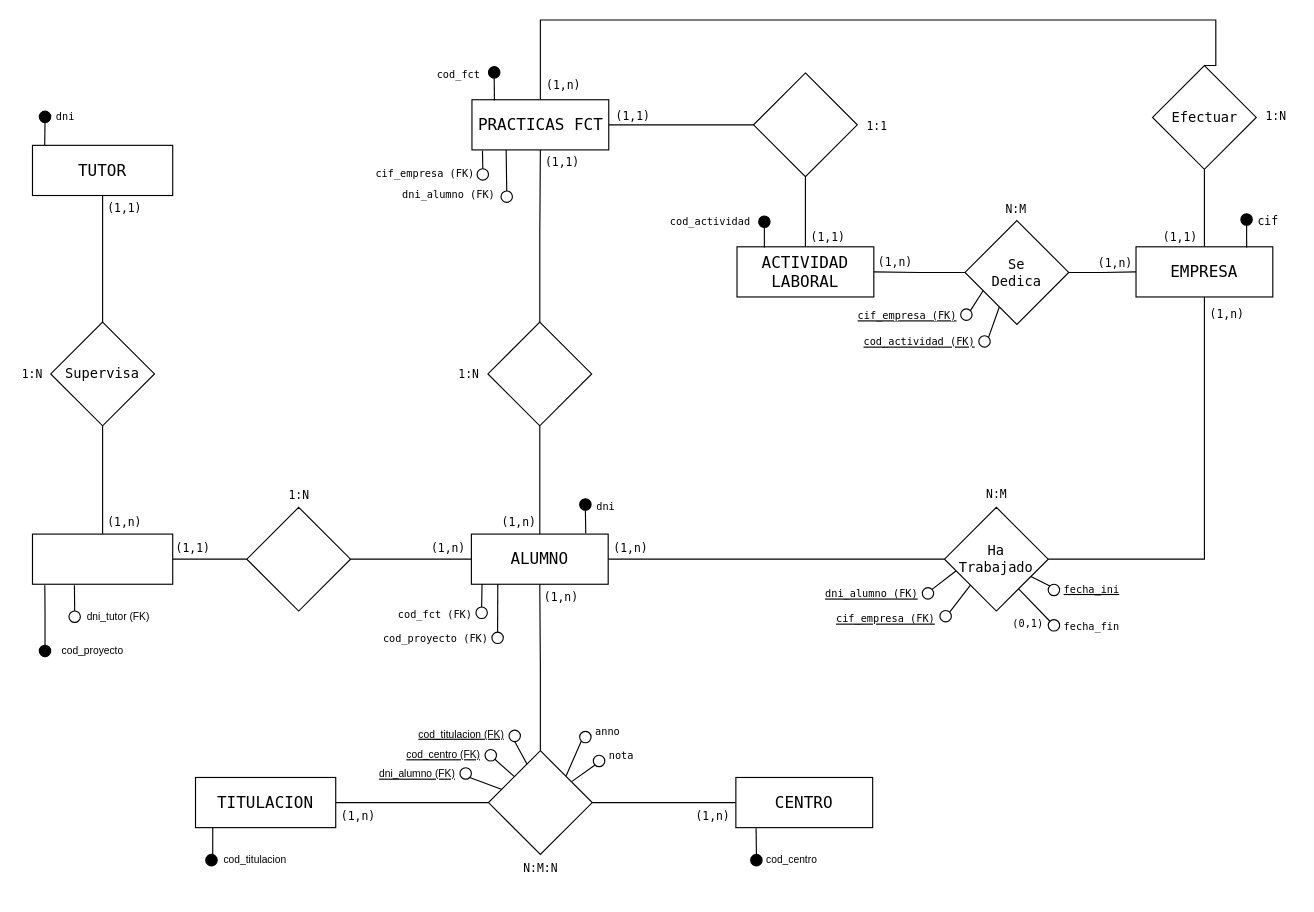
Some shapes in this 1314 by 912 pixel diagram are drawn without their labels. Here are the shapes that lost their labels. From the top down, the centre of each, then its label:
At pixel 804 124: "Aprender".
At pixel 539 373: "Realiza".
At pixel 102 558: "PROYECTO".
At pixel 298 558: "Desarrolla".
At pixel 539 802: "Ha Estudiado".
